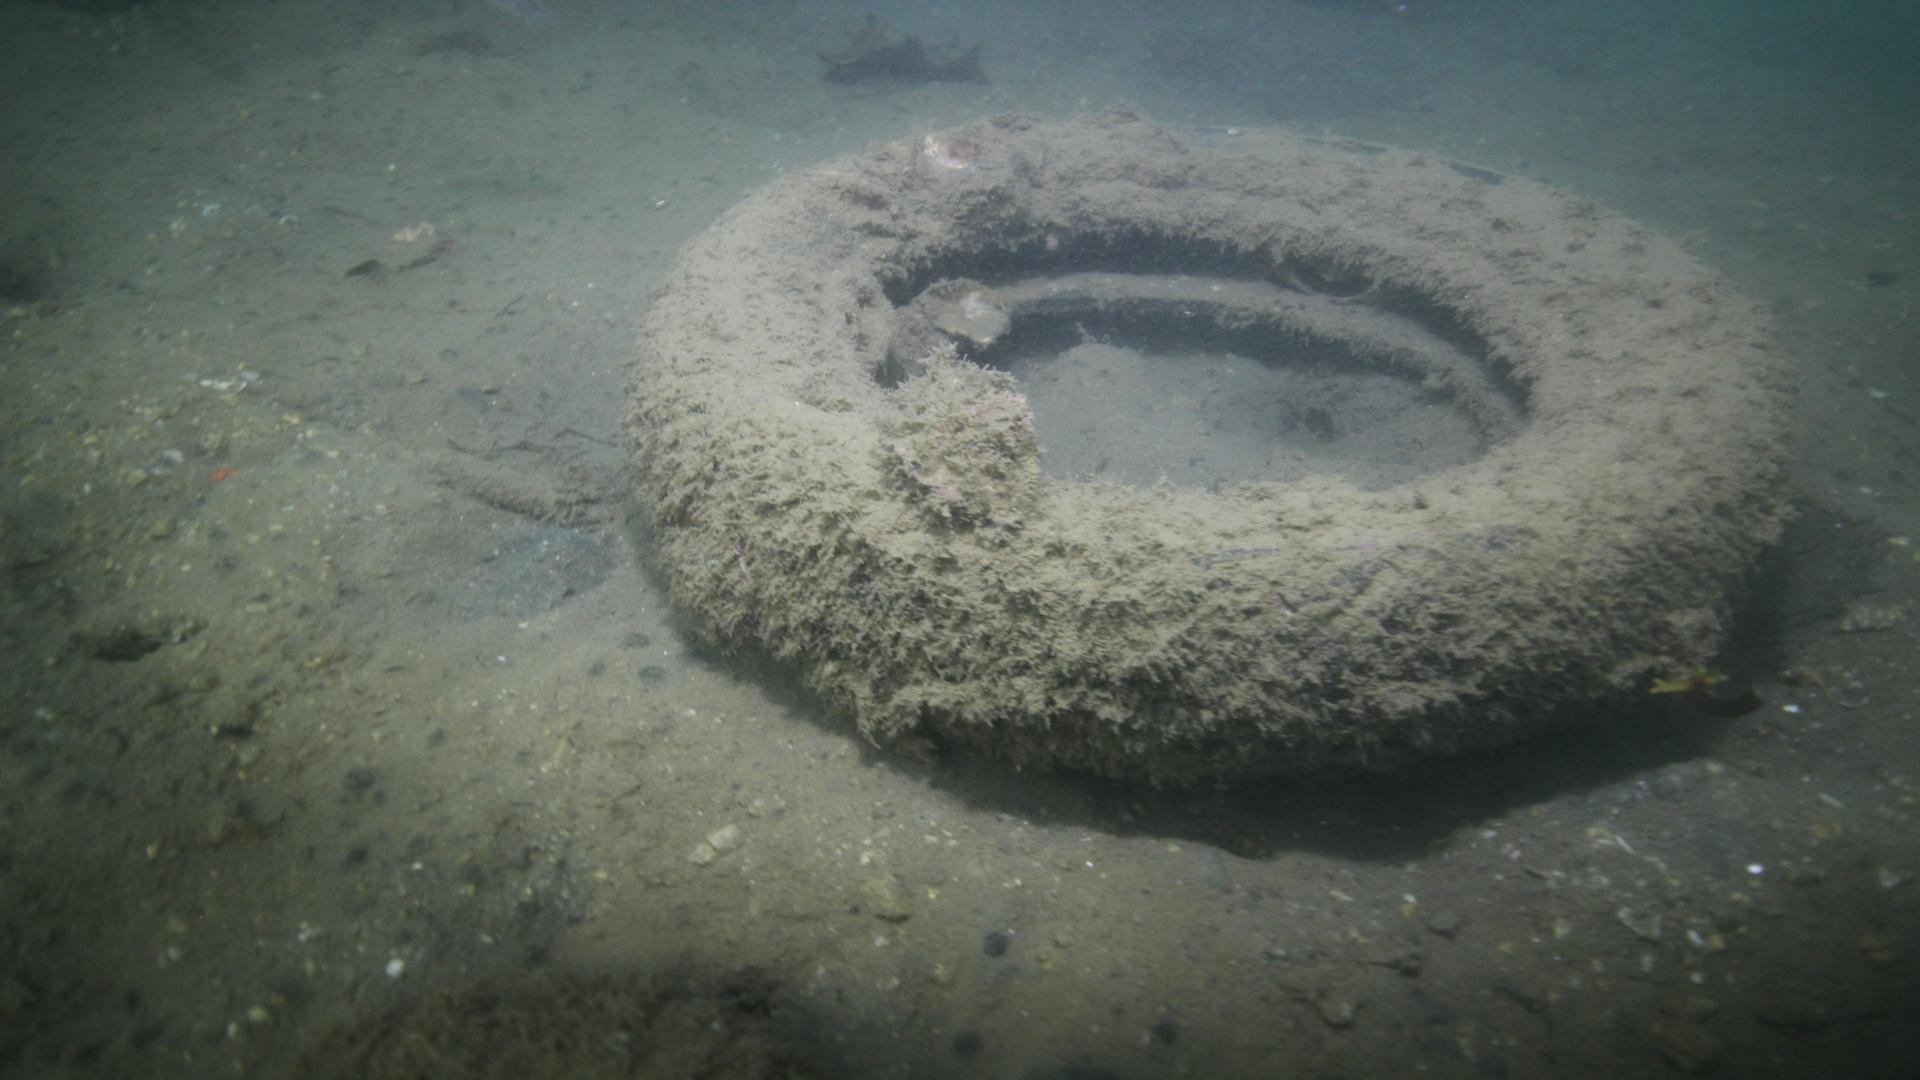tire: (625, 115, 1800, 800)
